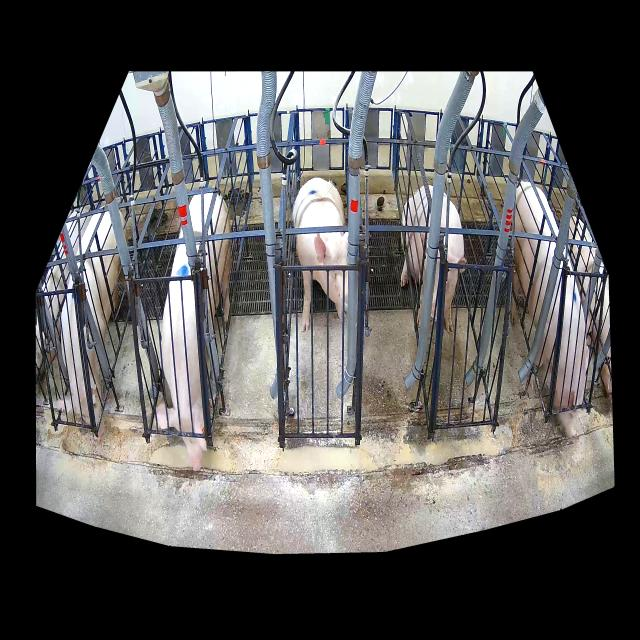pig: (156, 192, 231, 471), (510, 183, 587, 438), (53, 211, 130, 443), (401, 185, 466, 332), (293, 177, 348, 332)
